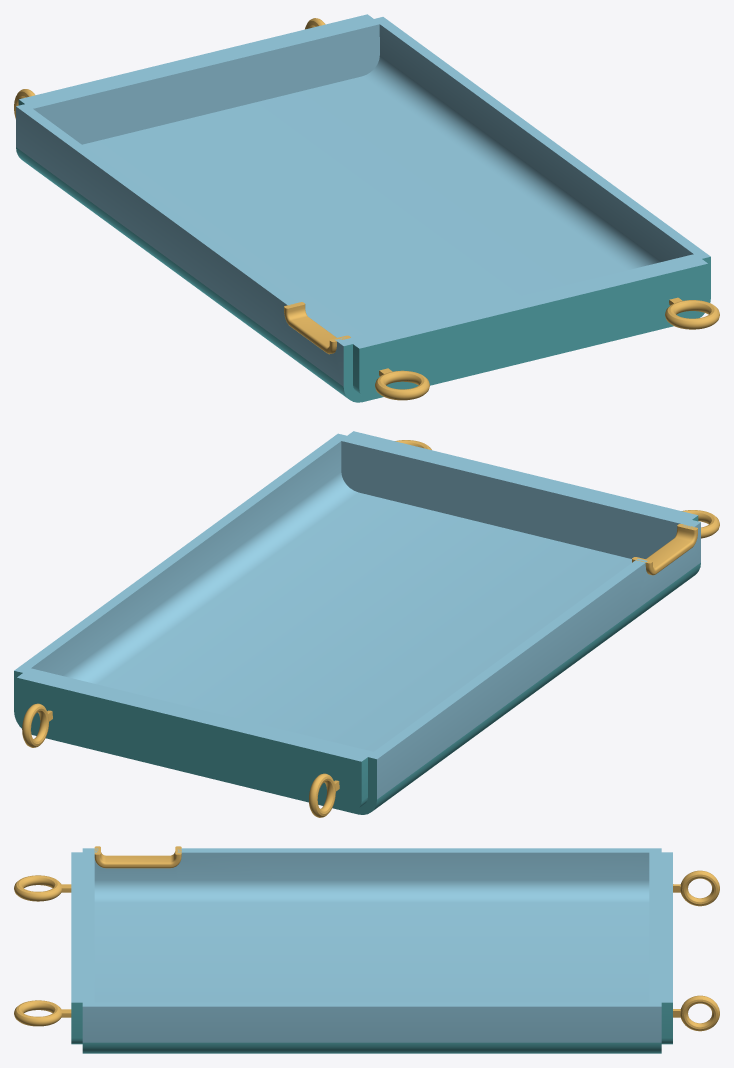
File: vagon_sin.fbx
3 views of the same model, one above another, from view 1: azimuth 30°, elevation 25°; view 2: azimuth 150°, elevation 25°; view 3: azimuth 270°, elevation 25° (orthographic). The views are drawn at different scales.
Visible parts, largest first — view 1: Cylinder.013; view 2: Cylinder.013; view 3: Cylinder.013.
Part boxes in pixels (x1,y1,x2,y2): Cylinder.013: [14, 14, 719, 402]; Cylinder.013: [14, 431, 719, 817]; Cylinder.013: [14, 846, 719, 1053].
Bounding box in the file's own units: 1636 × 254 × 3045.
